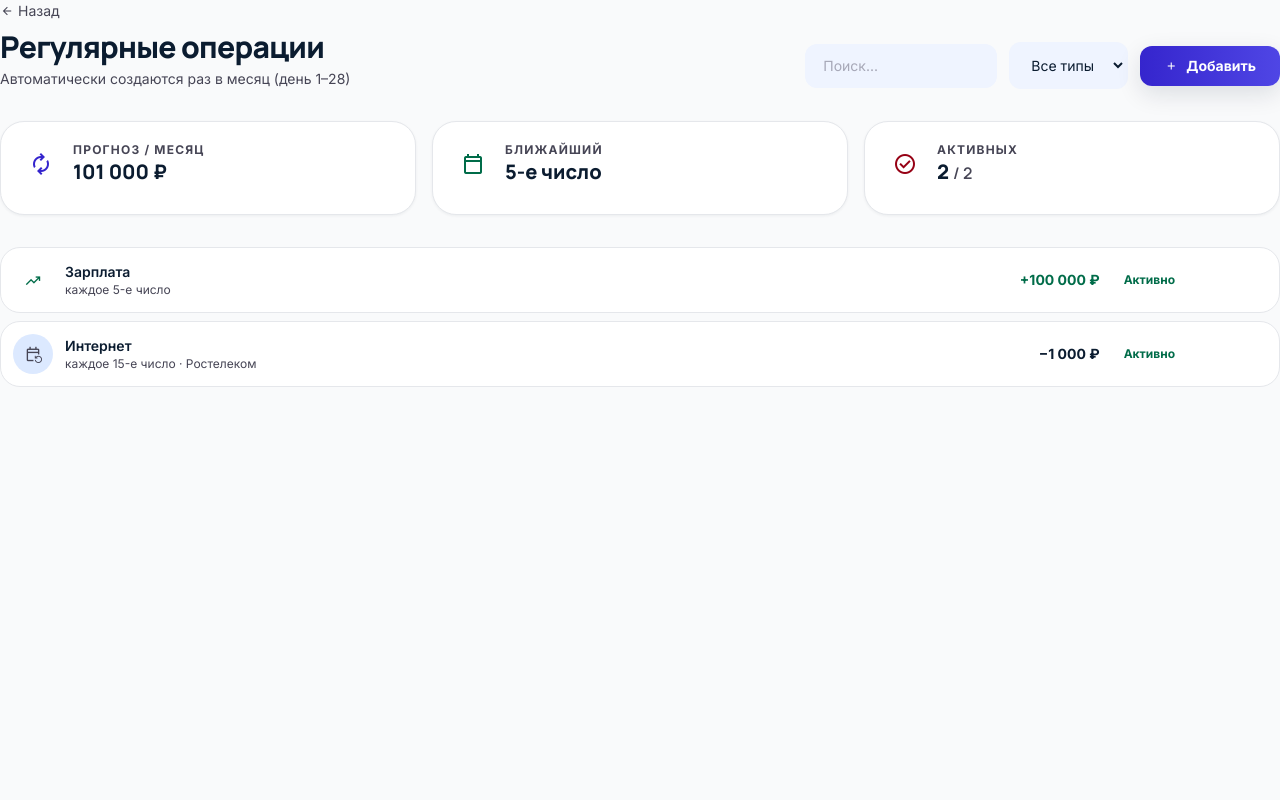
Scenario: Recurring › opens create modal when add button is clicked
Expected: the heading "Регулярные операции" is shown, [0,29,350,65]
Step 1. Click the button "Добавить" → (1210, 66), box [1140,46,1279,86]
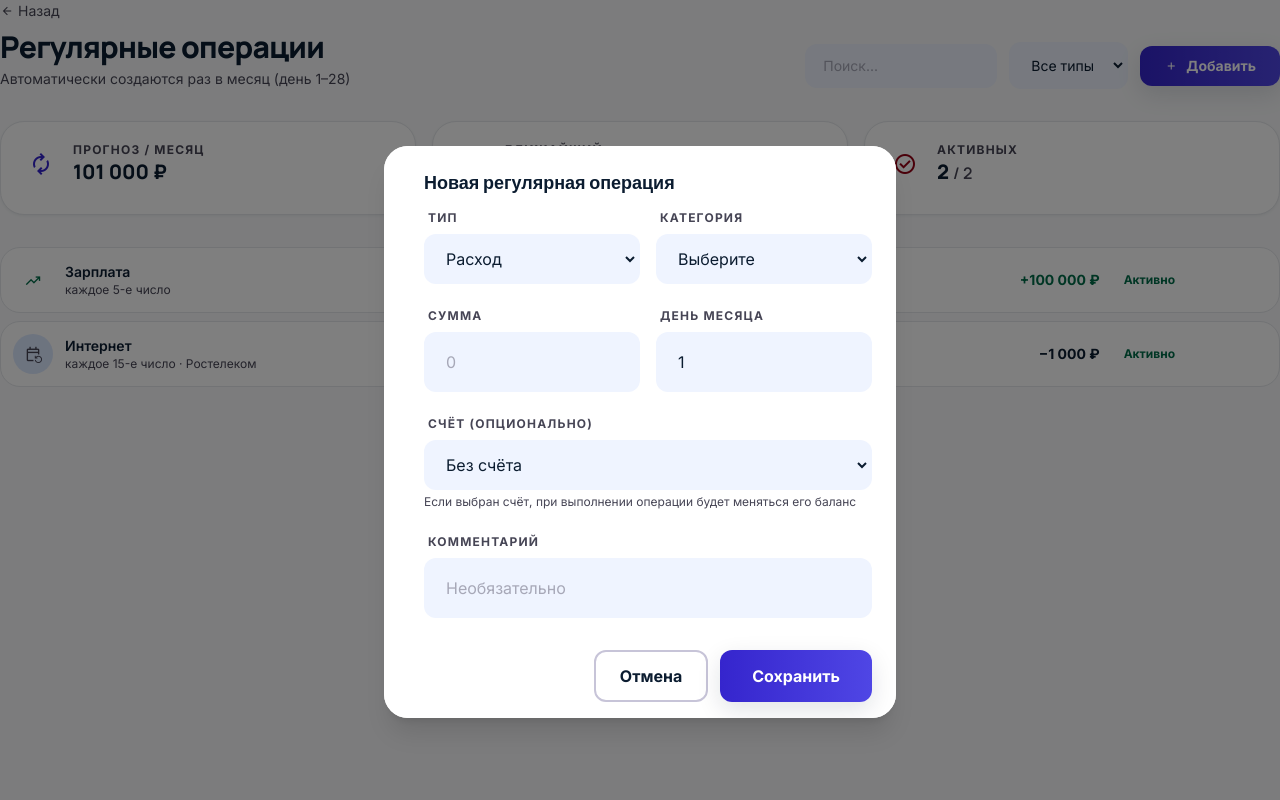
Expected: the heading "Новая регулярная операция" is shown, [424,170,675,194]
